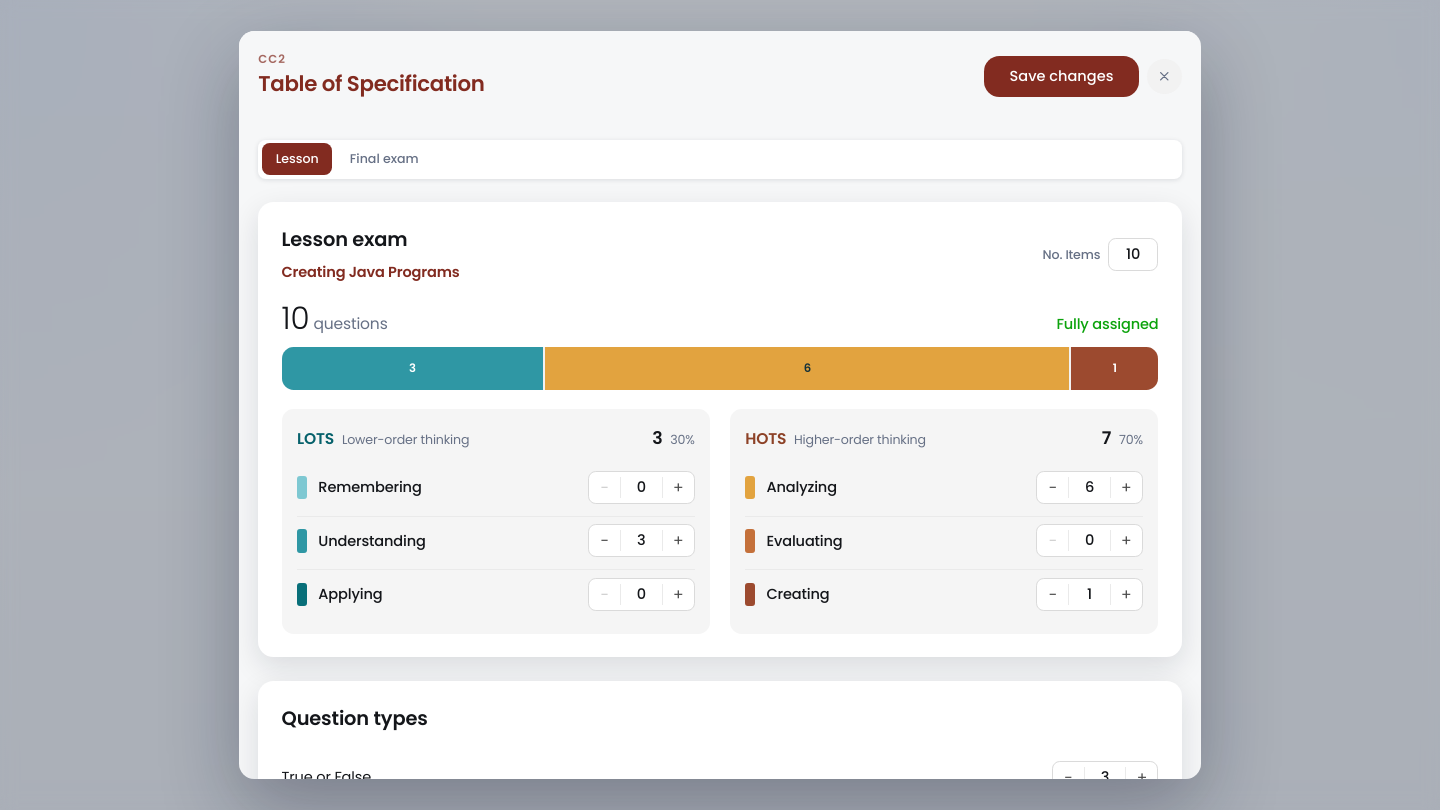
Test: Closing with unsaved edits › asks on a click outside the dialog too
The width and height of the screenshot is (1440, 810).
Replace the text in the field named "Analyzing" with "5" at (1090, 488), box [1068, 477, 1111, 498]
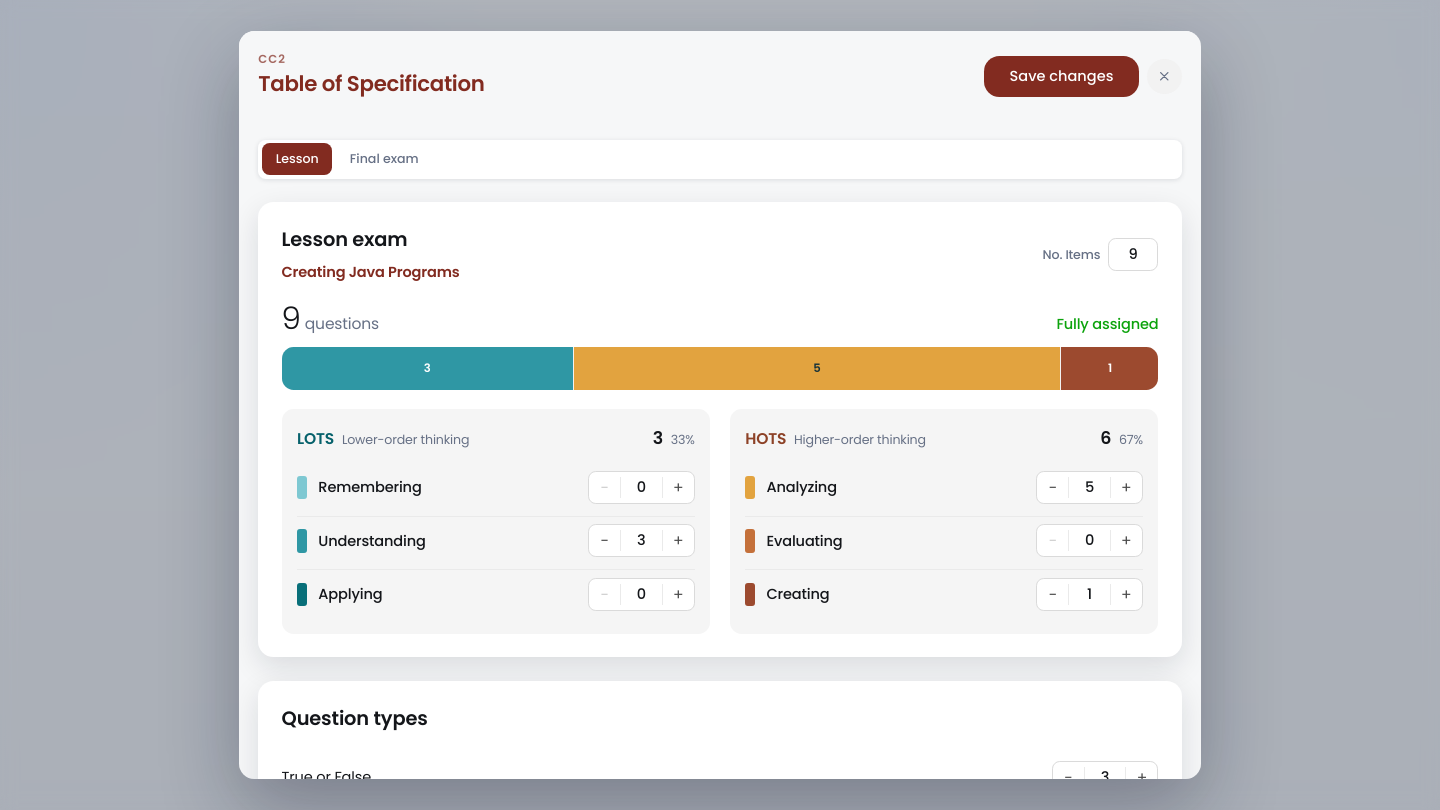
Press the mouse on the element with class "tos-modal" at (720, 405), box [0, 0, 1439, 809]
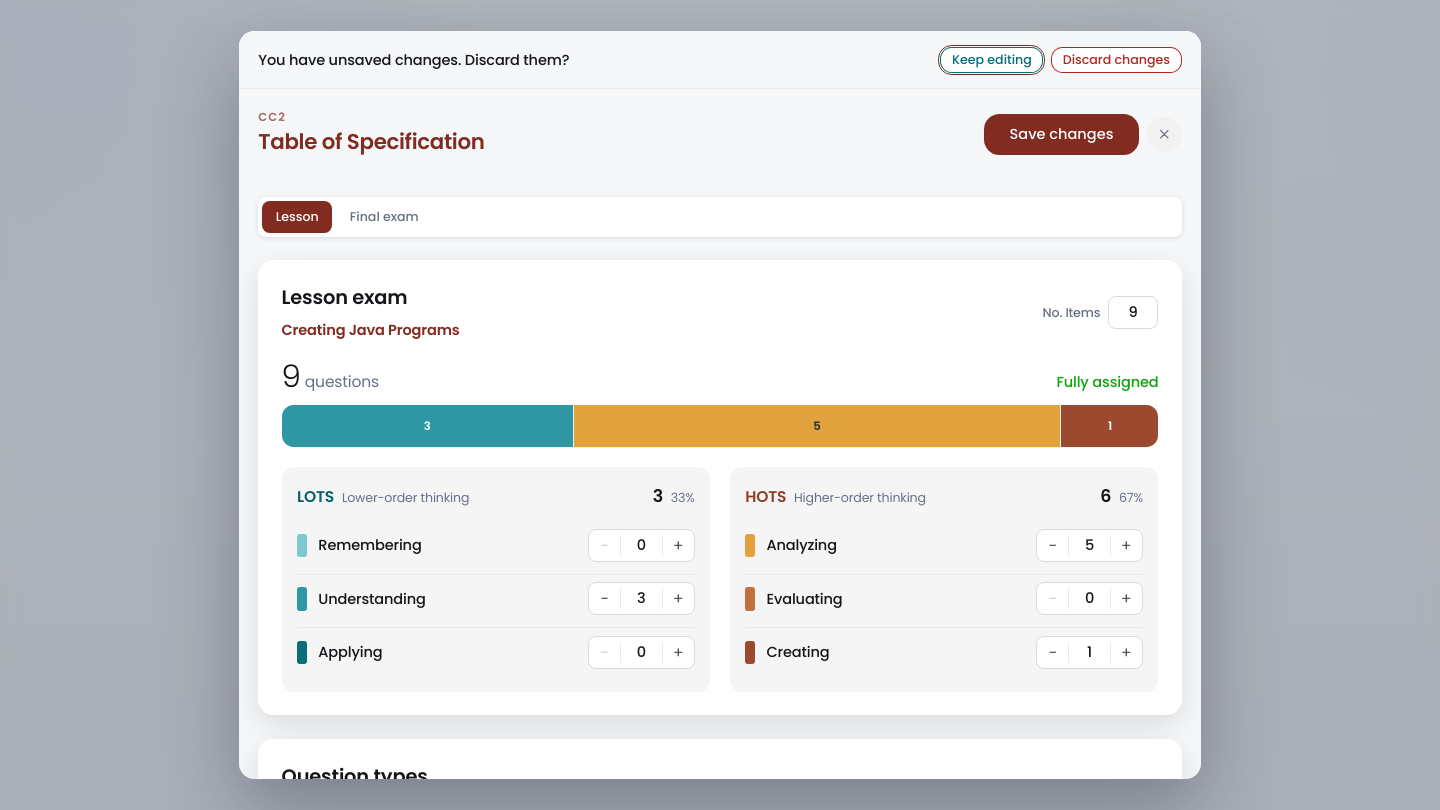
Result: the text "You have unsaved changes. Discard them?" is shown at [258, 49, 569, 71]
